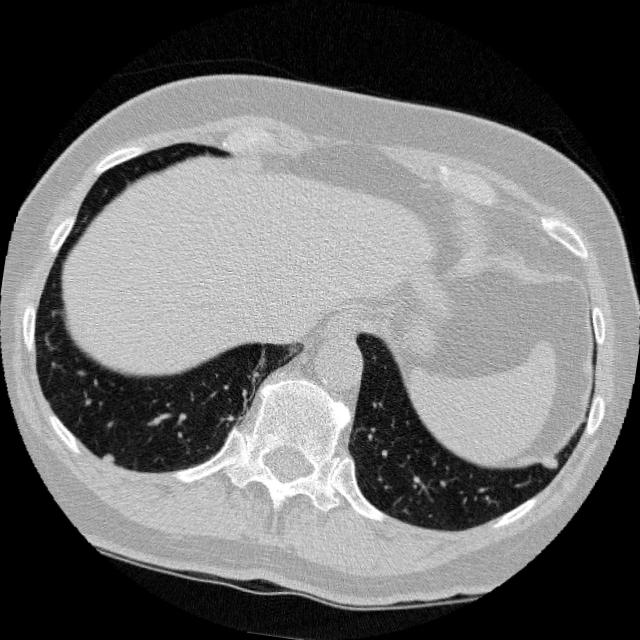nodule: (92, 441, 124, 473)
